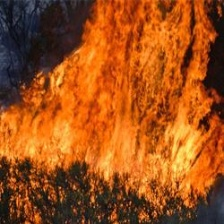fire: (1, 90, 216, 213), (38, 1, 206, 89)
